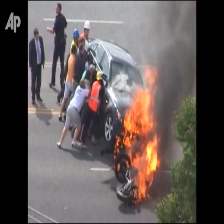fire_h: (123, 65, 160, 200)
fire_l: (113, 136, 120, 160), (117, 159, 129, 170)
